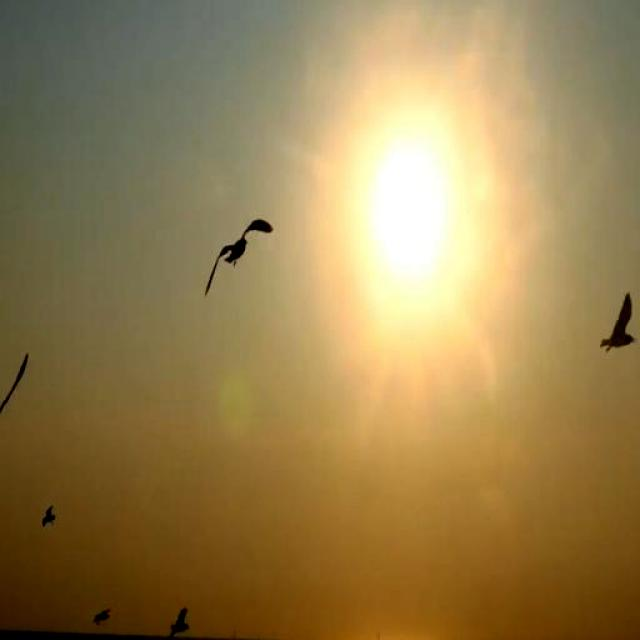airplane: (189, 208, 285, 291), (595, 285, 640, 362), (0, 350, 26, 471), (158, 594, 204, 640), (89, 594, 124, 630), (38, 496, 69, 531)
